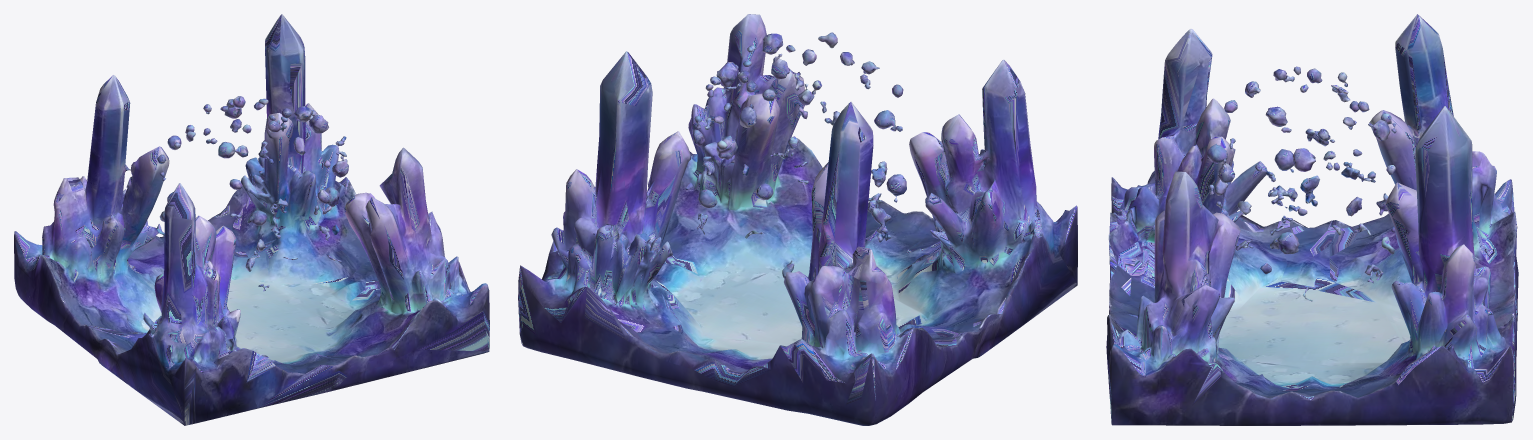
Rendered from _PBR_Hyper_detailed.glb.
3 views of the same model, side by side, from view 1: azimuth 30°, elevation 25°; view 2: azimuth 150°, elevation 25°; view 3: azimuth 270°, elevation 25° (orthographic). The views are drawn at different scales.
Parts seen in each view (by area): view 1: _PBR_Hyper_detailed; view 2: _PBR_Hyper_detailed; view 3: _PBR_Hyper_detailed.
Boxes of the visible parts, bbox=[...] form: _PBR_Hyper_detailed: bbox=[14, 14, 489, 425]; _PBR_Hyper_detailed: bbox=[518, 14, 1077, 425]; _PBR_Hyper_detailed: bbox=[1106, 14, 1518, 425].
Size of the model in its own units: 1.82 by 1.39 by 1.81.
1 material, 1 textured.
